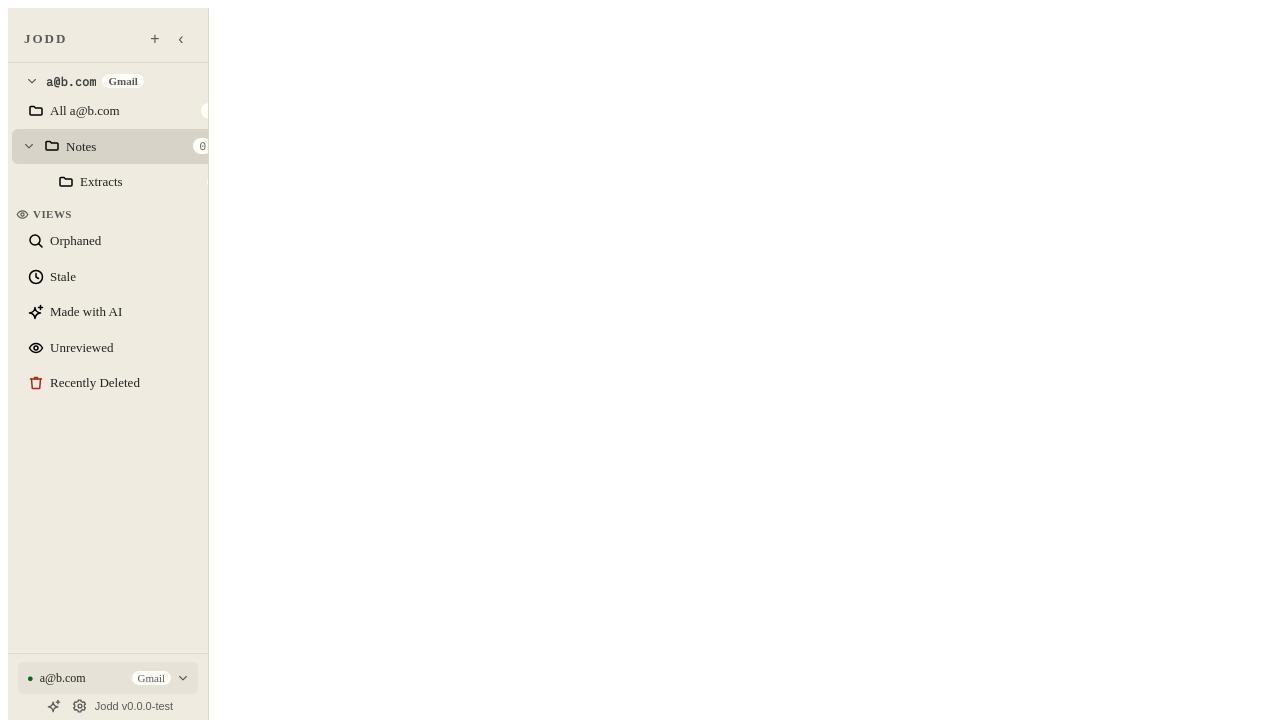
Test: Sidebar Delete folder confirm › names its verb and is danger-styled, not the primary
The image size is (1280, 720).
Right-click the button titled "Extracts": coordinates (101, 182) [58,174,226,190]
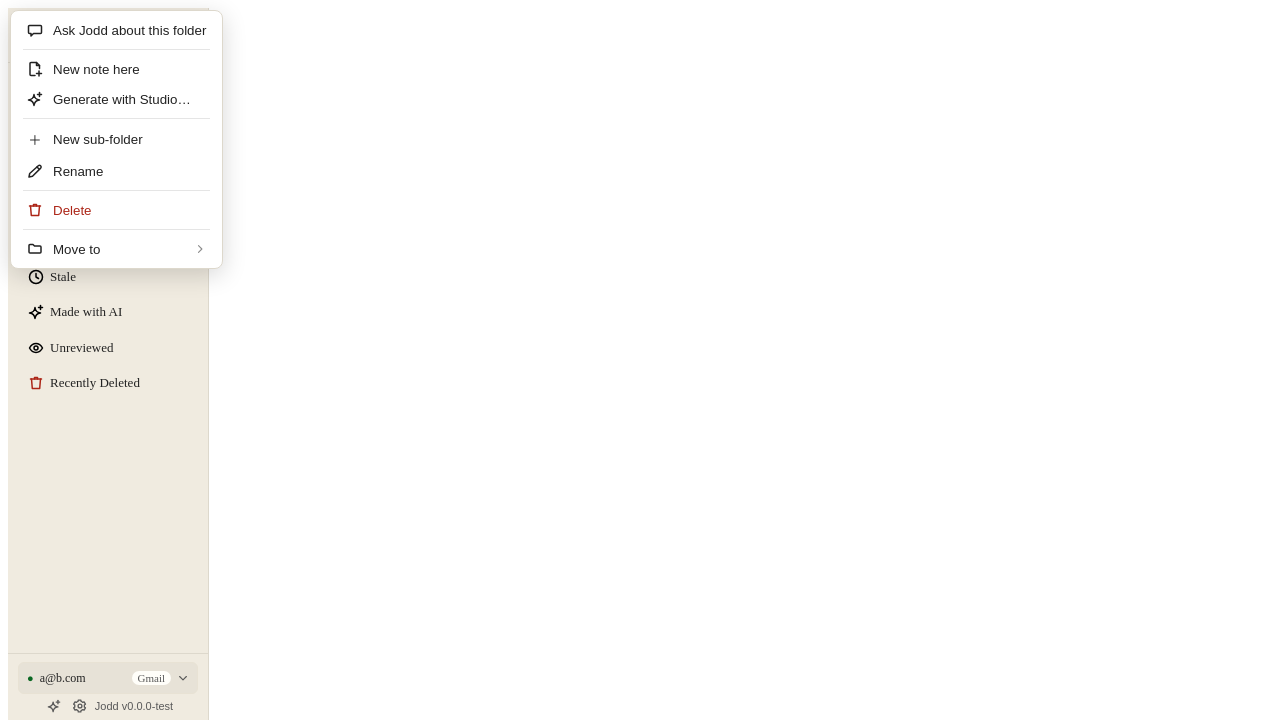
Click the button "Delete": coordinates (117, 210) [15,195,218,225]
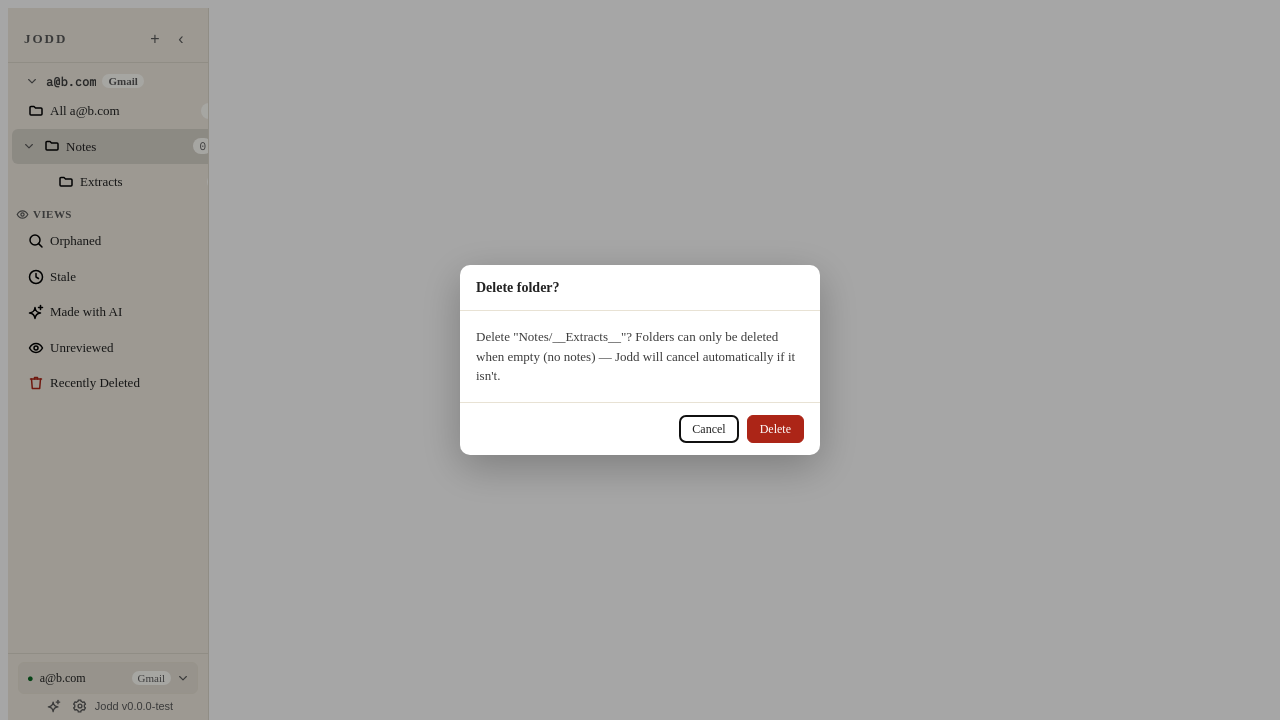
Expected: the heading "Delete folder?" is shown, [476,280,560,295]
